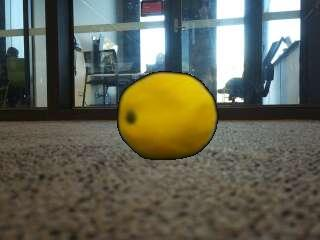lemon: (118, 72, 217, 160)
